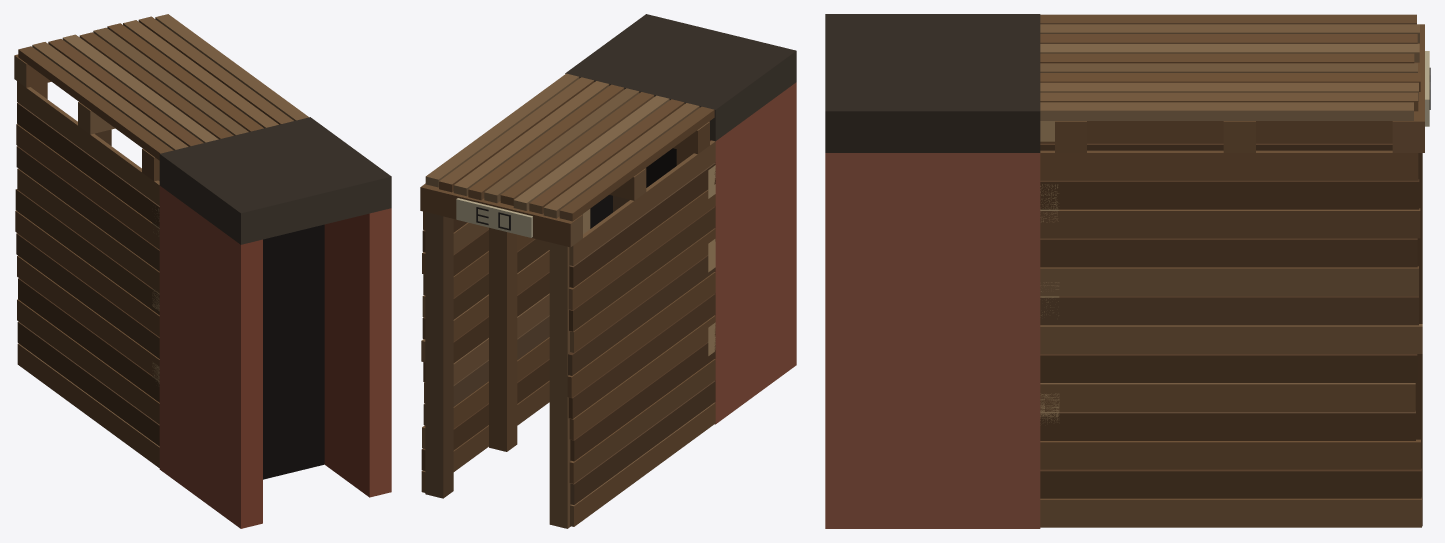
File: timber_portal.glb
The picture shows the model from 3 angles, left to right: view 1: azimuth 30°, elevation 25°; view 2: azimuth 150°, elevation 25°; view 3: azimuth 270°, elevation 25°; orthographic projection. The views are drawn at different scales.
Parts seen in each view (by area): view 1: timber_portal; view 2: timber_portal; view 3: timber_portal.
Boxes of the visible parts, x1,y1,x2,y2 form: timber_portal: (14,14,391,528); timber_portal: (420,14,796,528); timber_portal: (825,14,1430,528).
Bounding box in the file's own units: 3 × 6 × 7.88.
